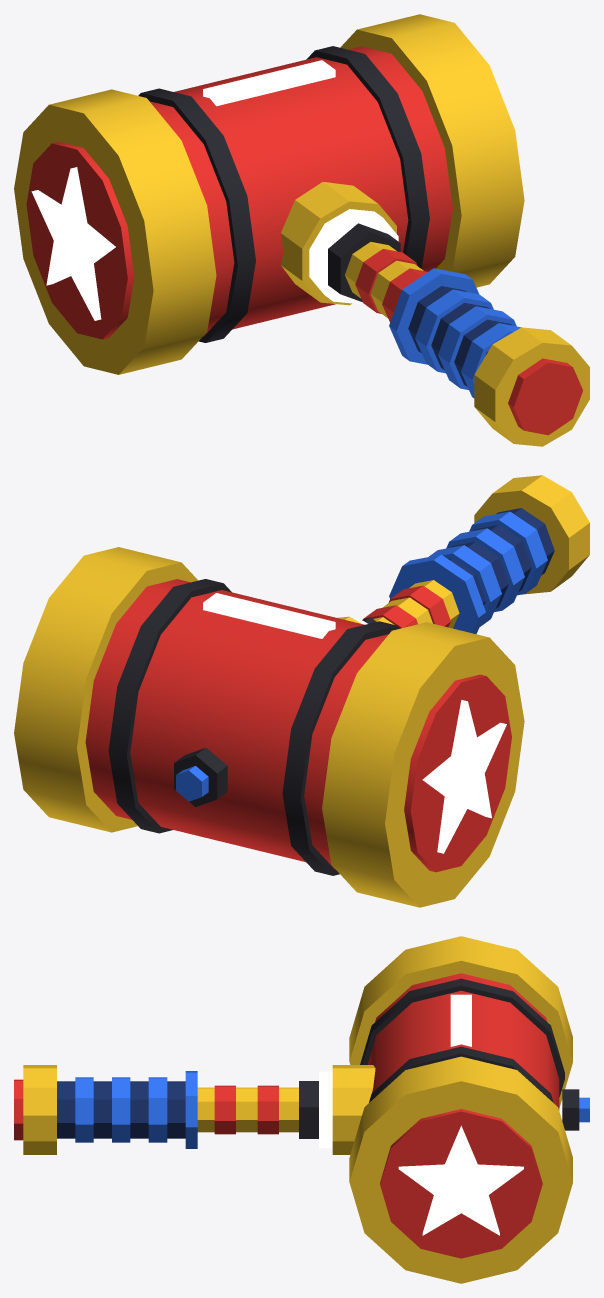
Rendered from ToyHammer.glb.
3 renders of one model, top to bottom at view 1: azimuth 30°, elevation 25°; view 2: azimuth 150°, elevation 25°; view 3: azimuth 270°, elevation 25°, orthographic. The views are drawn at different scales.
Parts seen in each view (by area): view 1: HeadCore, CapL, CapR, FaceL, Pommel, BellowsL, BellowsR, Star, Socket, PommelCap, GripGuard, BodyDash0 (+9 smaller); view 2: HeadCore, CapL, CapR, FaceL, BellowsR, BellowsL, Pommel, Star, GripGuard, BodyDash0, Grip, GripRib1 (+7 smaller); view 3: CapR, FaceR, HeadCore, CapL, Star, Grip, BellowsL, Pommel, Socket, Shaft, BellowsR, GripRib0 (+10 smaller).
Part boxes in pixels (x1,y1,x2,y2): HeadCore: [150, 46, 452, 336]; CapL: [14, 89, 216, 374]; CapR: [340, 14, 524, 287]; FaceL: [26, 142, 134, 339]; Pommel: [474, 327, 589, 446]; BellowsL: [138, 88, 255, 342]; BellowsR: [306, 46, 429, 268]; Star: [31, 167, 115, 320]; Socket: [281, 182, 396, 305]; PommelCap: [508, 358, 582, 435]; GripGuard: [389, 268, 478, 364]; BodyDash0: [203, 60, 335, 106]; HeadCore: [85, 579, 388, 868]; CapL: [322, 622, 524, 907]; CapR: [14, 547, 197, 832]; FaceL: [404, 674, 511, 872]; BellowsR: [108, 579, 231, 833]; BellowsL: [282, 621, 399, 875]; Pommel: [474, 475, 589, 594]; Star: [422, 700, 506, 853]; GripGuard: [389, 554, 485, 634]; BodyDash0: [203, 593, 335, 638]; Grip: [448, 508, 554, 608]; GripRib1: [446, 528, 524, 612]; CapR: [349, 1056, 572, 1283]; FaceR: [380, 1109, 542, 1258]; HeadCore: [367, 973, 559, 1110]; CapL: [349, 936, 572, 1107]; Star: [398, 1125, 523, 1235]; Grip: [57, 1081, 185, 1138]; BellowsL: [360, 978, 564, 1097]; Pommel: [23, 1065, 56, 1154]; Socket: [332, 1065, 375, 1154]; Shaft: [197, 1087, 298, 1132]; BellowsR: [369, 1046, 553, 1102]; GripRib0: [148, 1077, 167, 1142].
Size of the model in its own units: 1.2 by 0.73 by 1.88.
